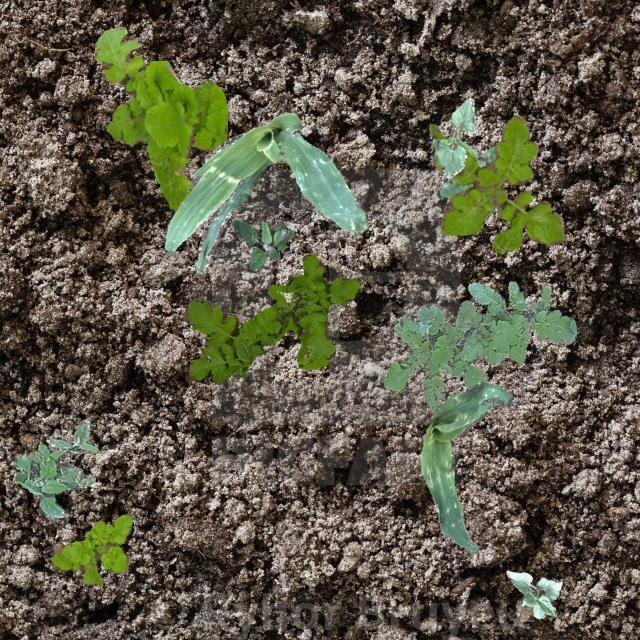crop: (162, 110, 366, 272), (418, 380, 514, 552), (432, 96, 478, 176), (506, 570, 560, 618)
weed: (382, 280, 576, 412), (94, 26, 226, 210), (182, 252, 360, 382), (428, 114, 564, 253), (12, 418, 98, 518), (51, 512, 130, 584), (438, 138, 494, 196), (230, 220, 292, 270)
